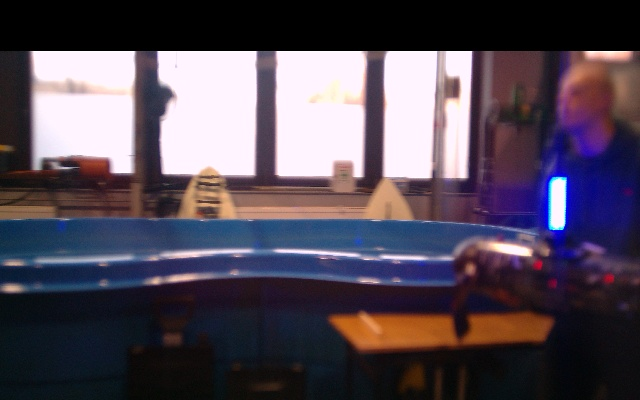blue: (549, 177, 566, 231)
